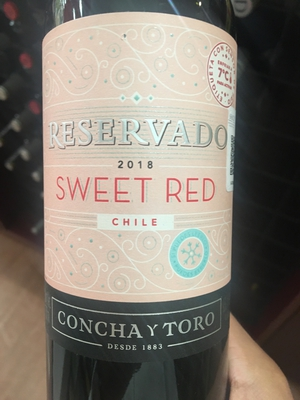reservado sweet red: (34, 8, 250, 388)
